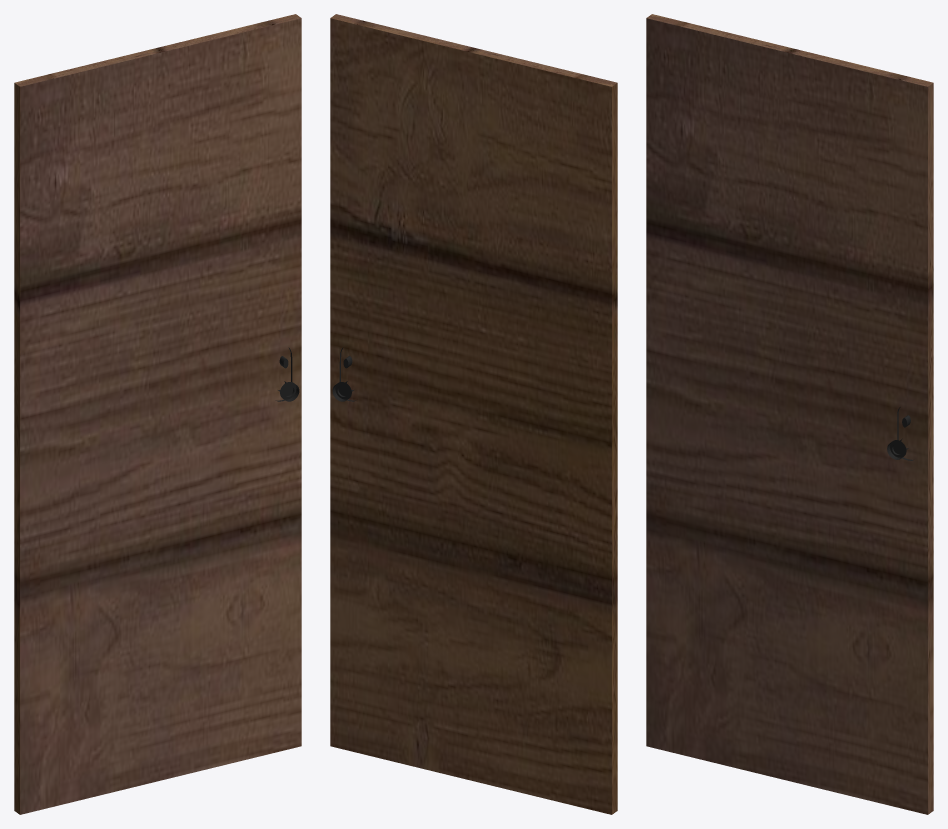
The model's file is porta.obj.
The picture shows the model from 3 angles, left to right: view 1: azimuth 30°, elevation 25°; view 2: azimuth 150°, elevation 25°; view 3: azimuth 330°, elevation 25°; orthographic projection.
Parts seen in each view (by area): view 1: Cubo_Cubo.003; view 2: Cubo_Cubo.003; view 3: Cubo_Cubo.003.
Boxes of the visible parts, box(x1,y1,x2,y2) form: Cubo_Cubo.003: box(14, 14, 301, 814); Cubo_Cubo.003: box(330, 14, 617, 814); Cubo_Cubo.003: box(646, 14, 933, 814).
Size of the model in its own units: 0.85 by 2.1 by 0.1455.
